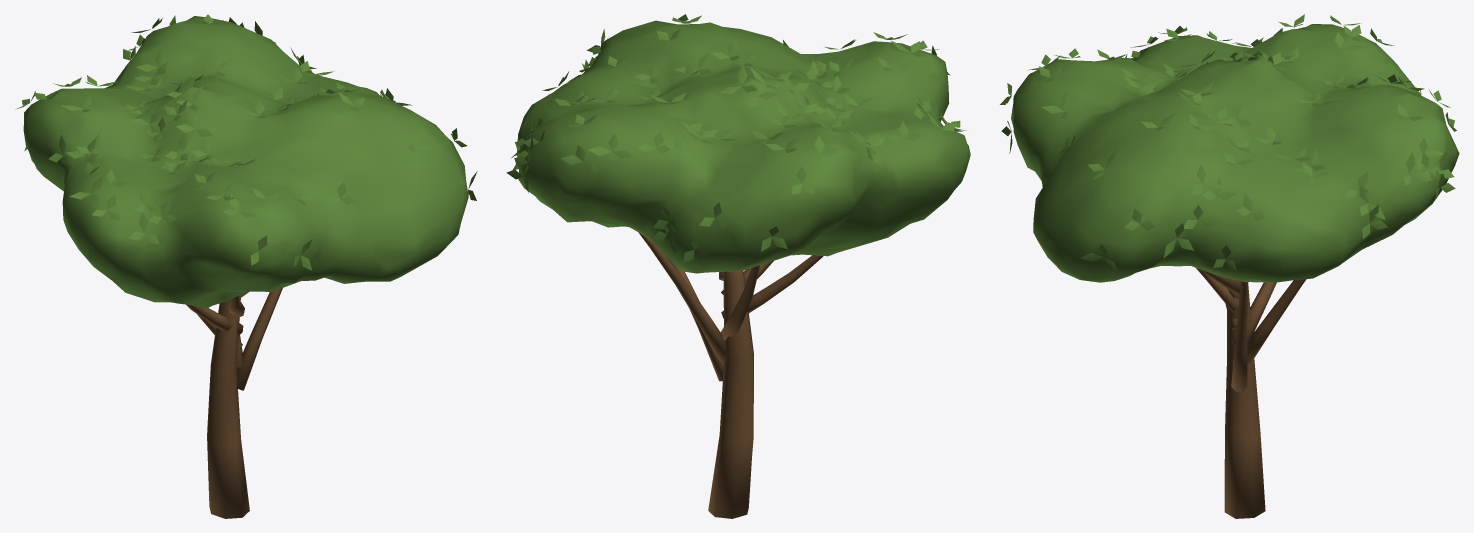
File: tropical-b.glb
3 renders of one model, left to right at view 1: azimuth 30°, elevation 25°; view 2: azimuth 150°, elevation 25°; view 3: azimuth 270°, elevation 25°, orthographic. The views are drawn at different scales.
Visible parts, largest first — view 1: tropical-b; view 2: tropical-b; view 3: tropical-b.
Part boxes in pixels (x1,y1,x2,y2): tropical-b: (15, 14, 477, 518); tropical-b: (506, 14, 970, 518); tropical-b: (1000, 14, 1459, 518).
Size of the model in its own units: 1.72 by 1.94 by 1.81.
